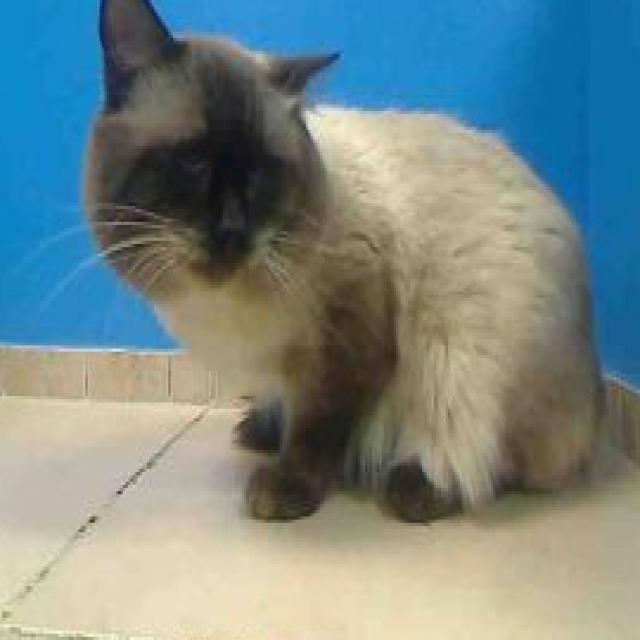Birman: (80, 0, 606, 526)
